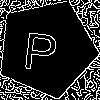P: (21, 23, 60, 72)
